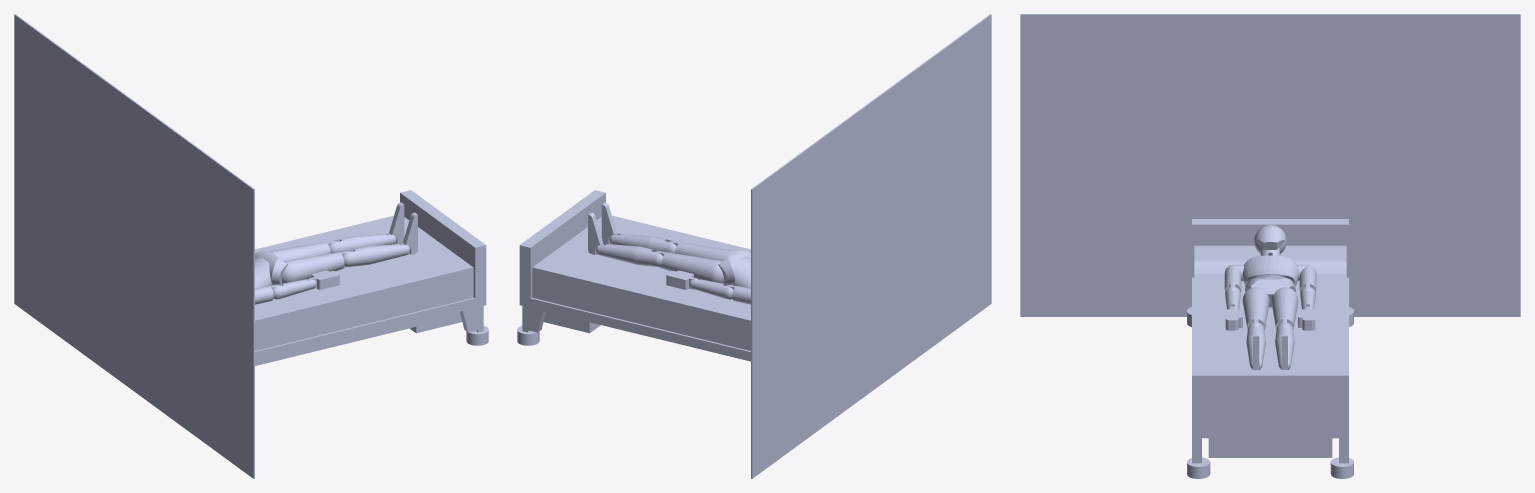
File: bed_and_body_expanded_rounded.dae
3 renders of one model, left to right at view 1: azimuth 30°, elevation 25°; view 2: azimuth 150°, elevation 25°; view 3: azimuth 270°, elevation 25°, orthographic. The views are drawn at different scales.
Parts seen in each view (by area): view 1: autobed/wall_link, autobed/bed_frame_link, autobed/leg_rest_lower_link, autobed/leg_rest_upper_link, autobed/head_rest_link, autobed/quad_right_link, autobed/calf_right_link, autobed/calf_left_link, autobed/quad_left_link, autobed/forearm_right_link, autobed/lower_body_link; view 2: autobed/wall_link, autobed/bed_frame_link, autobed/leg_rest_lower_link, autobed/leg_rest_upper_link, autobed/head_rest_link, autobed/quad_left_link, autobed/calf_left_link, autobed/calf_right_link, autobed/quad_right_link, autobed/forearm_left_link, autobed/lower_body_link; view 3: autobed/wall_link, autobed/bed_frame_link, autobed/head_rest_link, autobed/leg_rest_lower_link, autobed/leg_rest_upper_link, autobed/upper_body_link, autobed/base_link, autobed/quad_left_link, autobed/quad_right_link, autobed/head_link, autobed/lower_body_link, autobed/calf_left_link (+1 smaller).
Boxes of the visible parts, box(x1,y1,x2,y2) form: autobed/wall_link: box(14, 14, 254, 478); autobed/bed_frame_link: box(255, 190, 486, 365); autobed/leg_rest_lower_link: box(305, 215, 473, 320); autobed/leg_rest_upper_link: box(255, 237, 377, 333); autobed/head_rest_link: box(255, 301, 288, 350); autobed/quad_right_link: box(282, 251, 350, 283); autobed/calf_right_link: box(343, 243, 410, 266); autobed/calf_left_link: box(329, 233, 396, 253); autobed/quad_left_link: box(270, 241, 336, 260); autobed/forearm_right_link: box(272, 279, 316, 299); autobed/lower_body_link: box(255, 250, 287, 285); autobed/wall_link: box(751, 14, 991, 478); autobed/bed_frame_link: box(519, 190, 750, 361); autobed/leg_rest_lower_link: box(532, 215, 700, 320); autobed/leg_rest_upper_link: box(628, 237, 750, 333); autobed/head_rest_link: box(717, 301, 750, 350); autobed/quad_left_link: box(655, 251, 723, 283); autobed/calf_left_link: box(595, 243, 662, 266); autobed/calf_right_link: box(609, 233, 676, 253); autobed/quad_right_link: box(669, 241, 735, 260); autobed/forearm_left_link: box(689, 279, 733, 299); autobed/lower_body_link: box(718, 250, 750, 285); autobed/wall_link: box(1020, 14, 1520, 316); autobed/bed_frame_link: box(1192, 219, 1348, 463); autobed/head_rest_link: box(1194, 245, 1346, 296); autobed/leg_rest_lower_link: box(1194, 342, 1346, 369); autobed/leg_rest_upper_link: box(1194, 316, 1346, 341); autobed/upper_body_link: box(1242, 255, 1298, 286); autobed/base_link: box(1187, 307, 1353, 478); autobed/quad_left_link: box(1271, 287, 1298, 329); autobed/quad_right_link: box(1242, 287, 1269, 329); autobed/head_link: box(1254, 225, 1286, 253); autobed/lower_body_link: box(1246, 278, 1294, 307); autobed/calf_left_link: box(1275, 322, 1294, 369).
Size of the model in its own units: 2.31 by 3 by 2.
